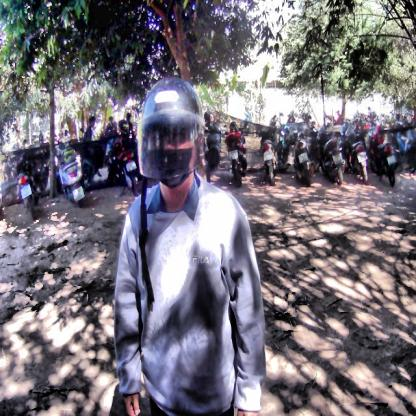wear: (147, 78, 199, 190)
